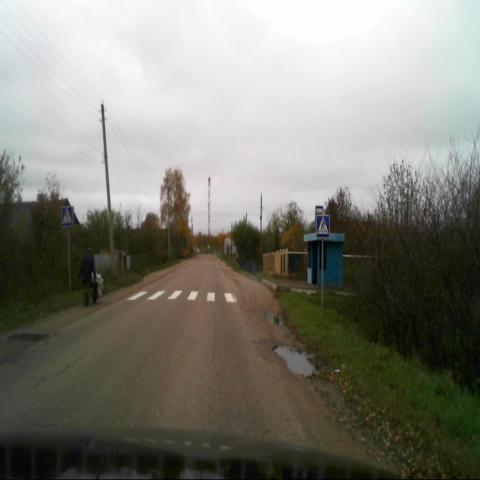5_19_1: (316, 214, 329, 237), (62, 206, 73, 227)
